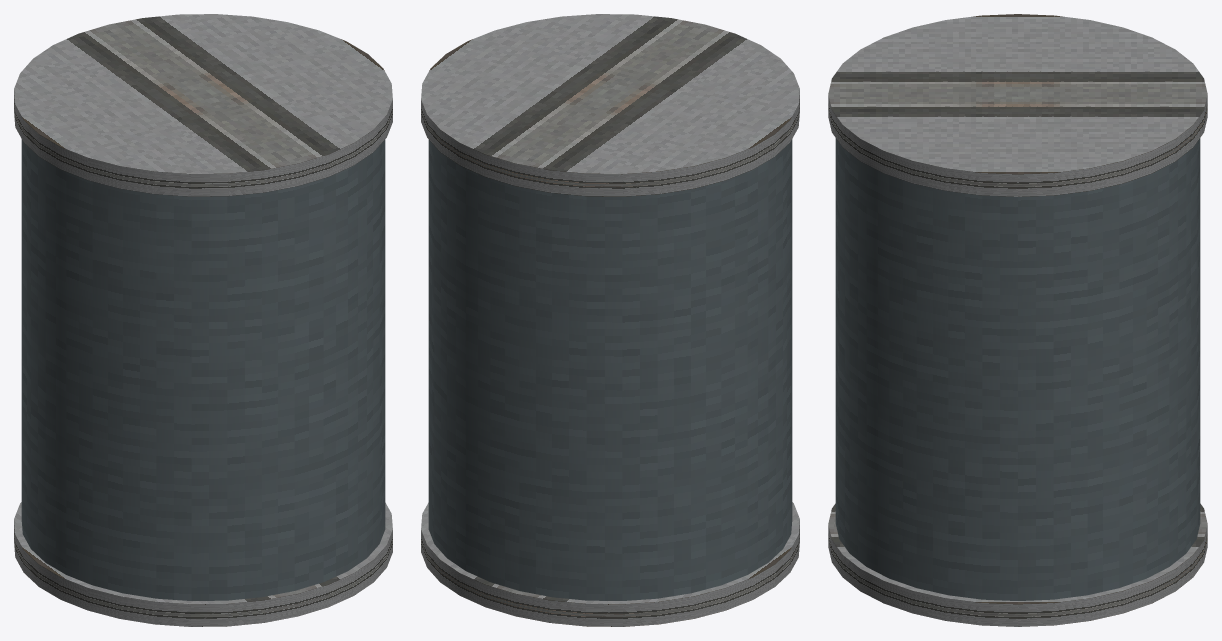
Rendered from pen-cup.glb.
3 views of the same model, side by side, from view 1: azimuth 30°, elevation 25°; view 2: azimuth 150°, elevation 25°; view 3: azimuth 270°, elevation 25° (orthographic).
Parts seen in each view (by area): view 1: shell, rim (×2); view 2: shell, rim (×2); view 3: shell, rim (×2).
Part boxes in pixels (left/top/right/bottom): shell: left=21, top=139, right=385, bottom=600; rim (×2): left=14, top=14, right=392, bottom=626; shell: left=428, top=139, right=792, bottom=600; rim (×2): left=421, top=14, right=799, bottom=626; shell: left=835, top=138, right=1200, bottom=600; rim (×2): left=828, top=14, right=1207, bottom=626.
Size of the model in its own units: 0.076 by 0.1 by 0.076.
Materials: 2 (2 with a texture image).
